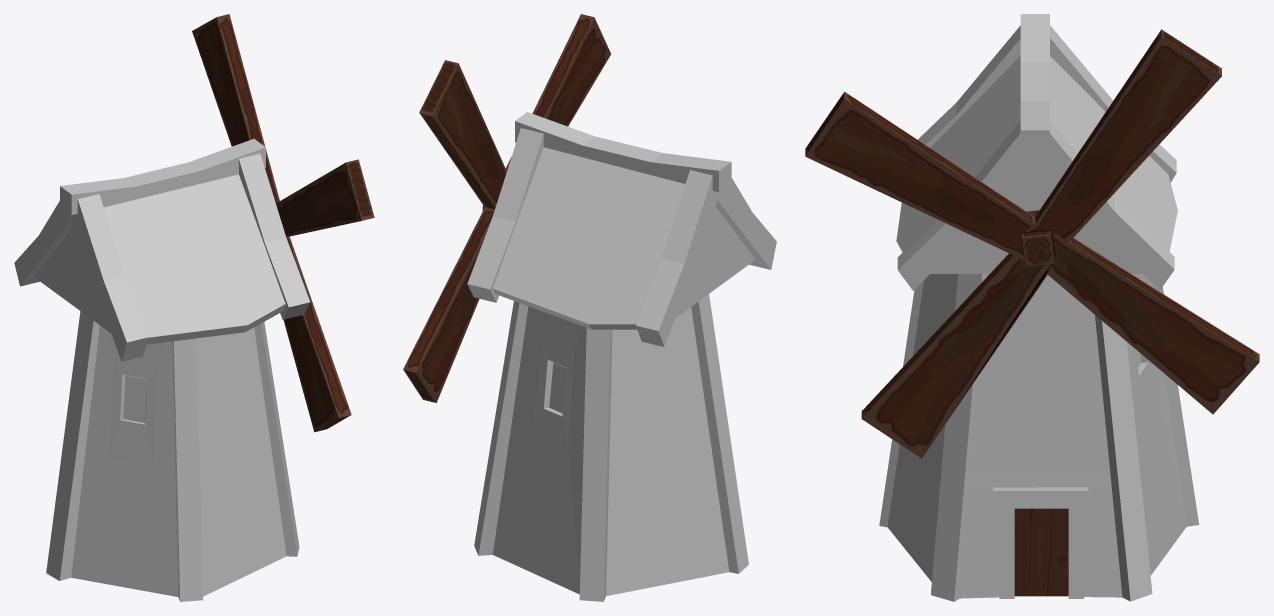
Rendered from MillEXPORT6.fbx.
3 renders of one model, left to right at view 1: azimuth 30°, elevation 25°; view 2: azimuth 150°, elevation 25°; view 3: azimuth 270°, elevation 25°, orthographic. The views are drawn at different scales.
Visible parts, largest first — view 1: Cylinder.001, Cube.001; view 2: Cylinder.001, Cube.001; view 3: Cylinder.001, Cube.001, Cube.005.
Part boxes in pixels (x1,y1,x2,y2): Cylinder.001: [14, 139, 310, 601]; Cube.001: [192, 14, 374, 432]; Cylinder.001: [467, 112, 776, 601]; Cube.001: [403, 14, 610, 402]; Cylinder.001: [879, 14, 1199, 601]; Cube.001: [805, 29, 1259, 458]; Cube.005: [1014, 508, 1068, 596].
Size of the model in its own units: 238 by 443 by 318.
